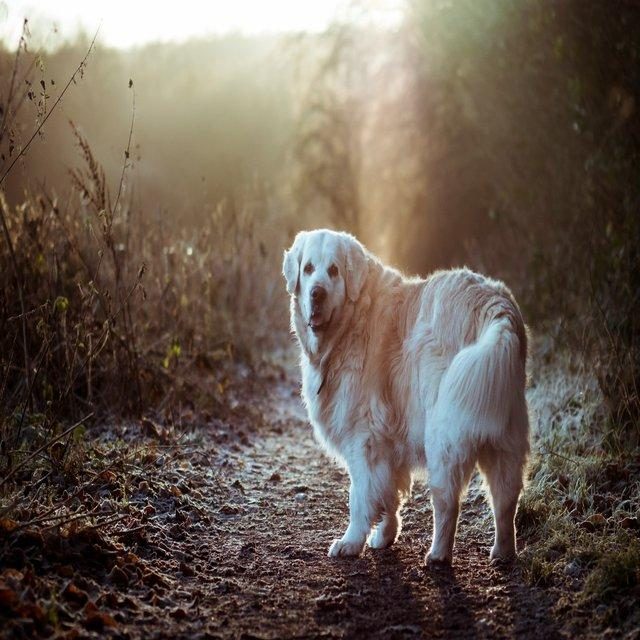retriever: (281, 227, 531, 569)
